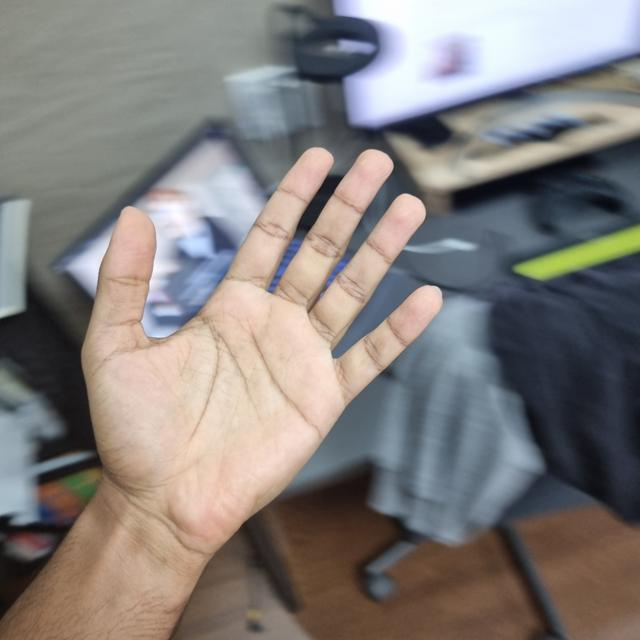Paper: (85, 145, 539, 639)
